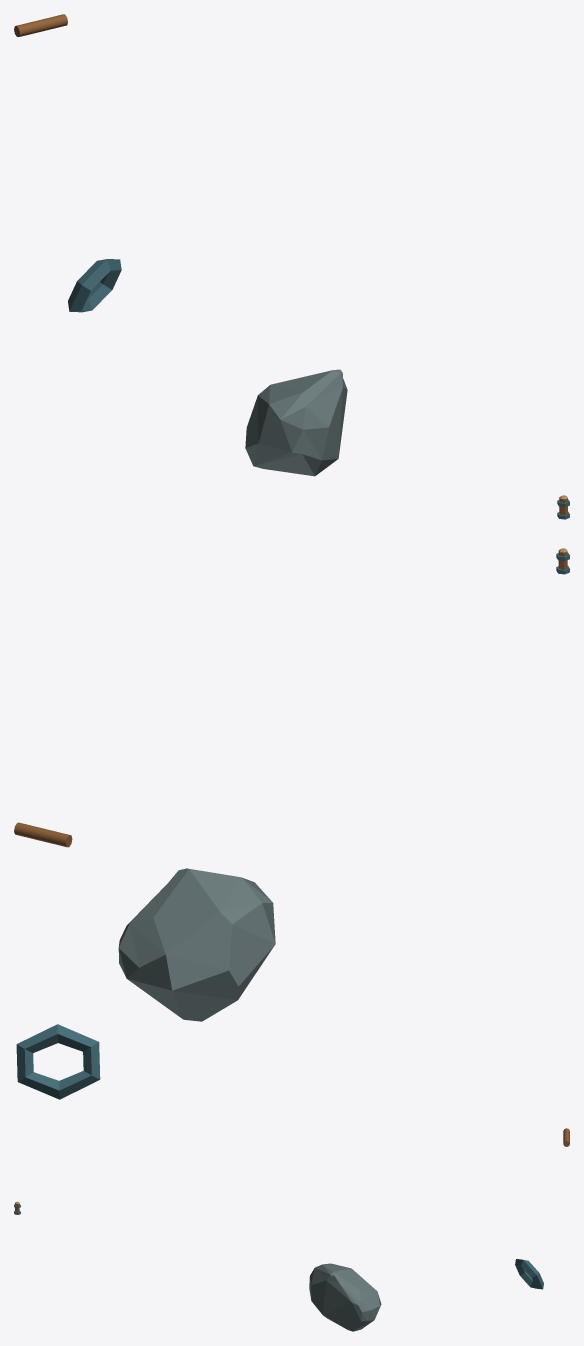
3 views of the same model, one above another, from view 1: azimuth 30°, elevation 25°; view 2: azimuth 150°, elevation 25°; view 3: azimuth 270°, elevation 25° (orthographic). The views are drawn at different scales.
Visible parts, largest first — view 1: Box271_rock_0, Torus044_metal_0, Cylinder1439_brown_0; view 2: Box271_rock_0, Torus044_metal_0, Cylinder1439_brown_0; view 3: Box271_rock_0, Torus044_metal_0.
Boxes of the visible parts, x1,y1,x2,y2 form: Box271_rock_0: (245, 369, 347, 476); Torus044_metal_0: (68, 259, 121, 312); Cylinder1439_brown_0: (14, 14, 67, 36); Box271_rock_0: (118, 868, 275, 1021); Torus044_metal_0: (16, 1024, 100, 1099); Cylinder1439_brown_0: (14, 822, 72, 847); Box271_rock_0: (309, 1263, 381, 1331); Torus044_metal_0: (515, 1259, 543, 1289).
Bounding box in the file's own units: 739 × 1653 × 4640.
